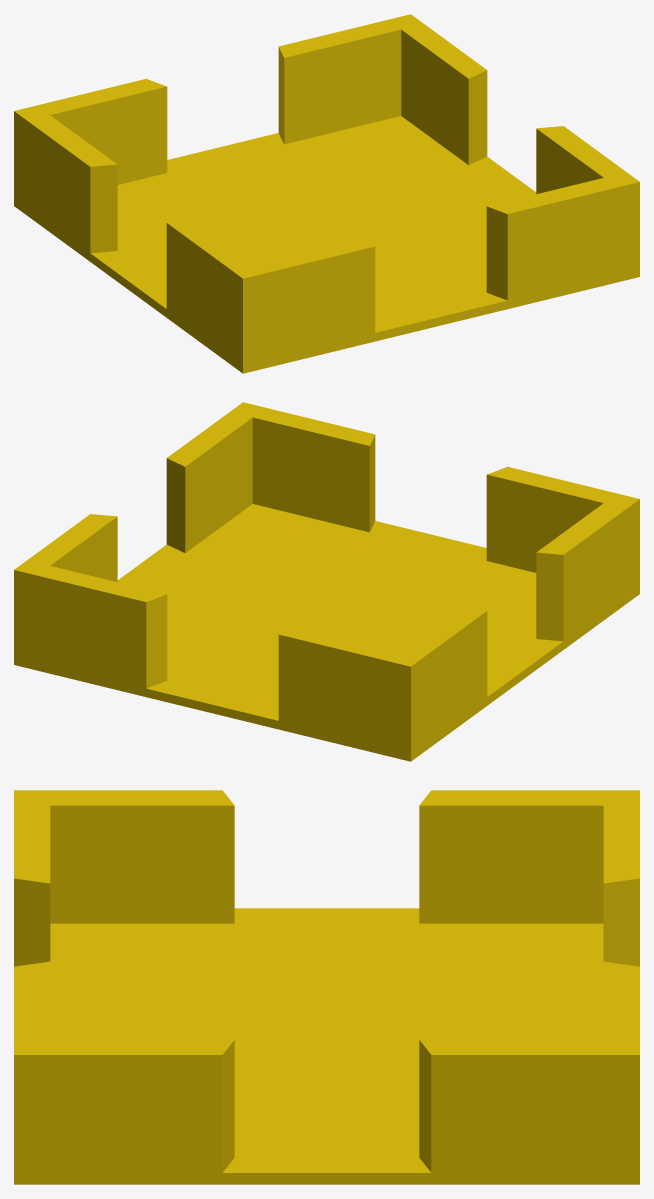
The model's file is RoomGoal.glb.
3 renders of one model, top to bottom at view 1: azimuth 30°, elevation 25°; view 2: azimuth 150°, elevation 25°; view 3: azimuth 270°, elevation 25°, orthographic. The views are drawn at different scales.
Parts seen in each view (by area): view 1: Cube; view 2: Cube; view 3: Cube.
Part boxes in pixels (bbox=[...]): Cube: bbox=[14, 14, 639, 373]; Cube: bbox=[14, 402, 639, 761]; Cube: bbox=[14, 790, 639, 1184].
Bounding box in the file's own units: 1 × 0.2288 × 1.
